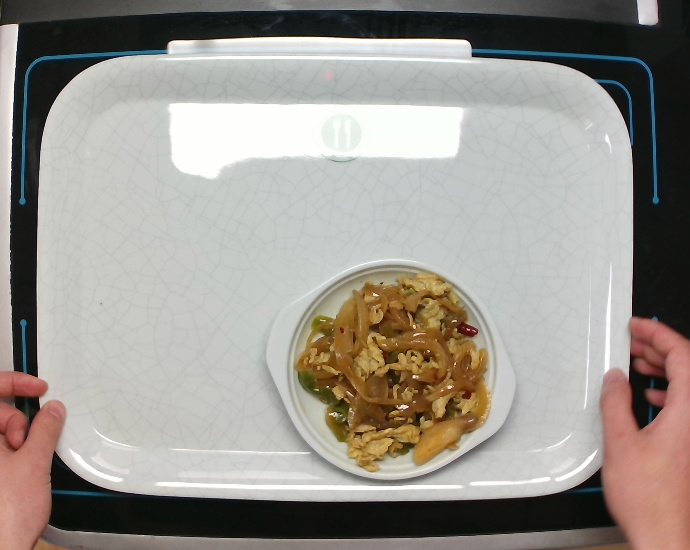JYsf-Shuang_Er_Pan: (263, 256, 519, 483)
